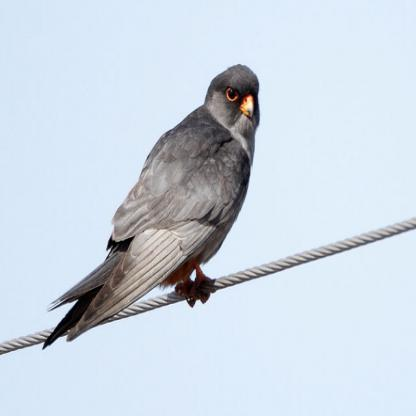Burung: (41, 64, 261, 350)
